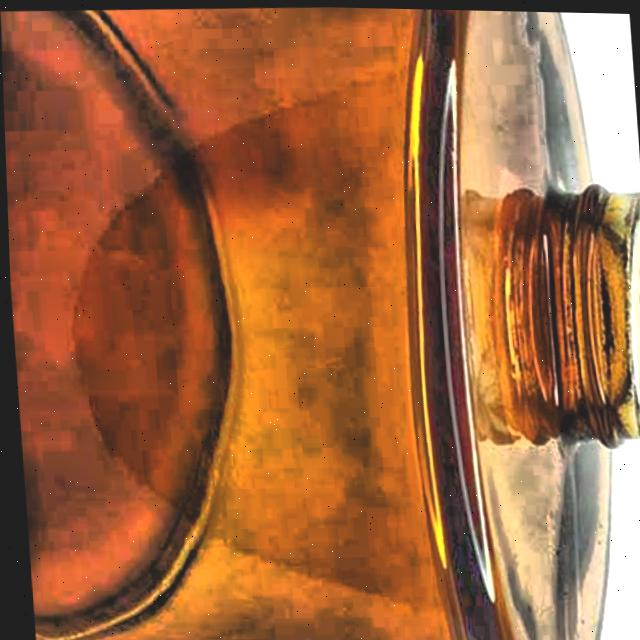glass: (0, 5, 640, 640)
